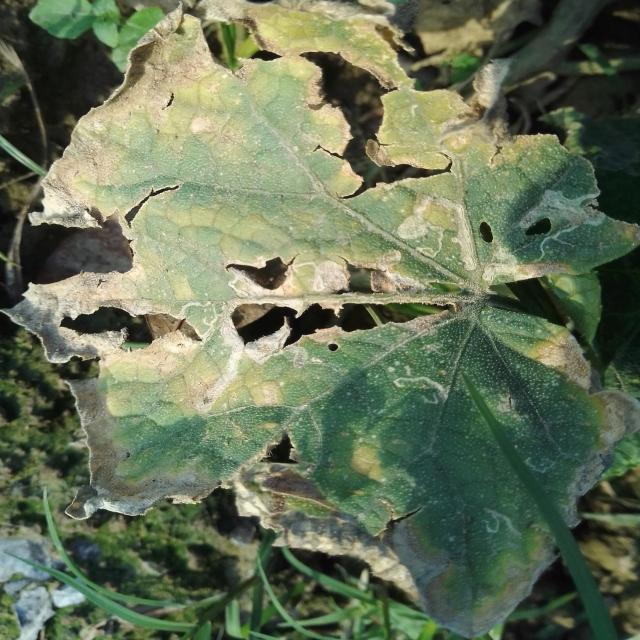cucumber_anthracnose: (22, 61, 632, 522)
